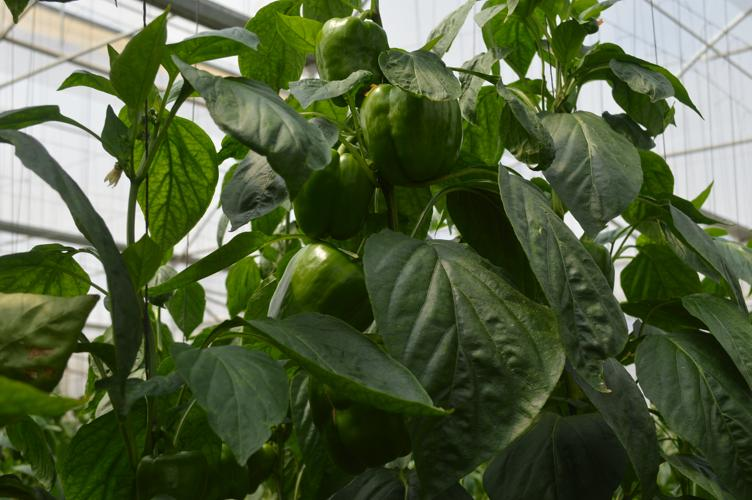BellPepper: (354, 87, 464, 178), (303, 377, 410, 466), (267, 240, 373, 327), (291, 151, 372, 237), (314, 15, 388, 99), (141, 451, 210, 494)
